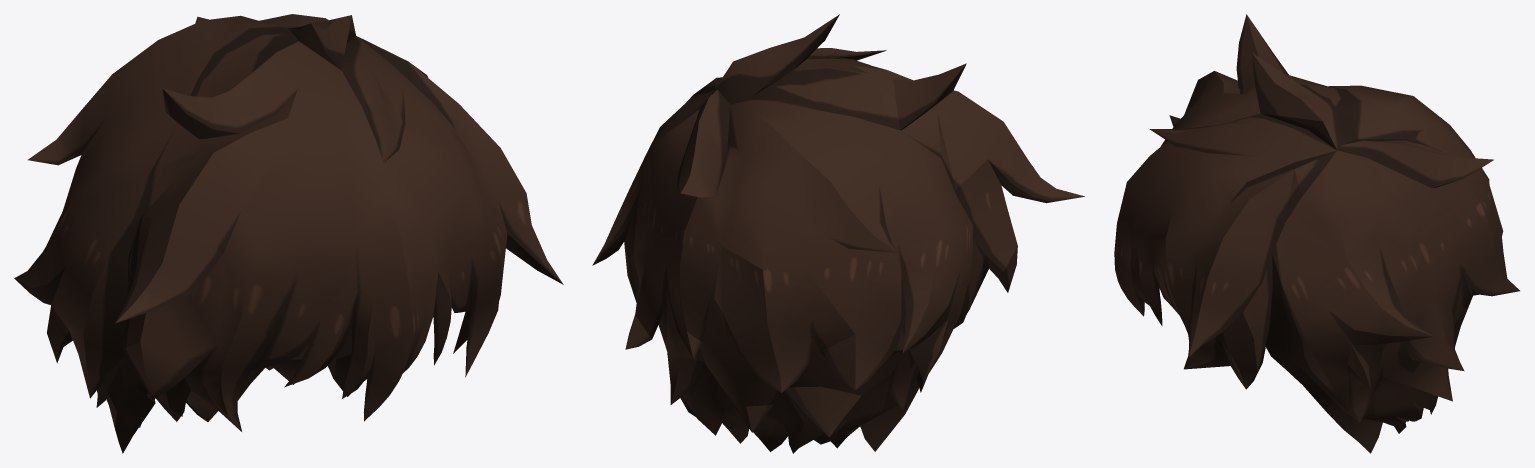
Rendered from 13-Ben-10-Anime-Hair-125540259305979.glb.
The picture shows the model from 3 angles, left to right: view 1: azimuth 30°, elevation 25°; view 2: azimuth 150°, elevation 25°; view 3: azimuth 270°, elevation 25°; orthographic projection. The views are drawn at different scales.
Visible parts, largest first — view 1: Ben-10-Anime-Hair; view 2: Ben-10-Anime-Hair; view 3: Ben-10-Anime-Hair.
Part boxes in pixels (x1=…): Ben-10-Anime-Hair: x1=14, y1=14, x2=563, y2=453; Ben-10-Anime-Hair: x1=592, y1=14, x2=1084, y2=453; Ben-10-Anime-Hair: x1=1114, y1=14, x2=1519, y2=453.
Bounding box in the file's own units: 1.94 × 1.87 × 1.88.
1 material, 1 textured.
